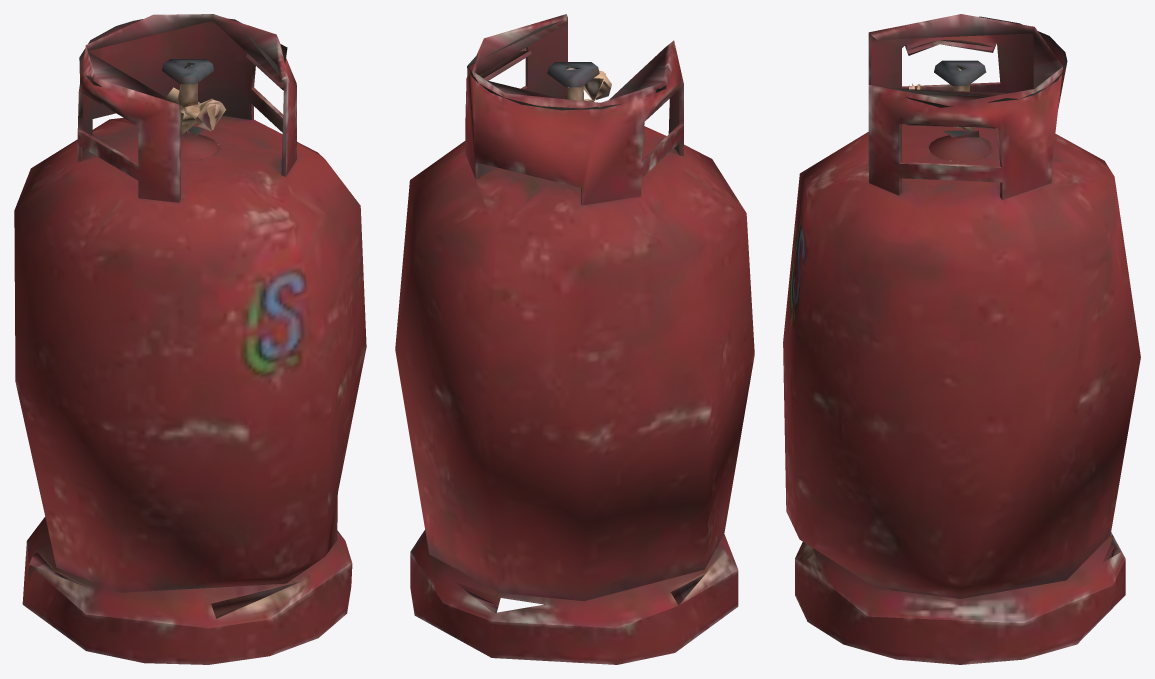
The model's file is propane_lo.glb.
The picture shows the model from 3 angles, left to right: view 1: azimuth 30°, elevation 25°; view 2: azimuth 150°, elevation 25°; view 3: azimuth 270°, elevation 25°; orthographic projection.
Visible parts, largest first — view 1: propane_tank; view 2: propane_tank; view 3: propane_tank.
Boxes of the visible parts, left/top/right/bottom form: propane_tank: left=14, top=14, right=366, bottom=664; propane_tank: left=395, top=14, right=754, bottom=664; propane_tank: left=783, top=14, right=1140, bottom=664.
Bounding box in the file's own units: 0.3279 × 0.5534 × 0.3341.
1 material, 1 textured.
